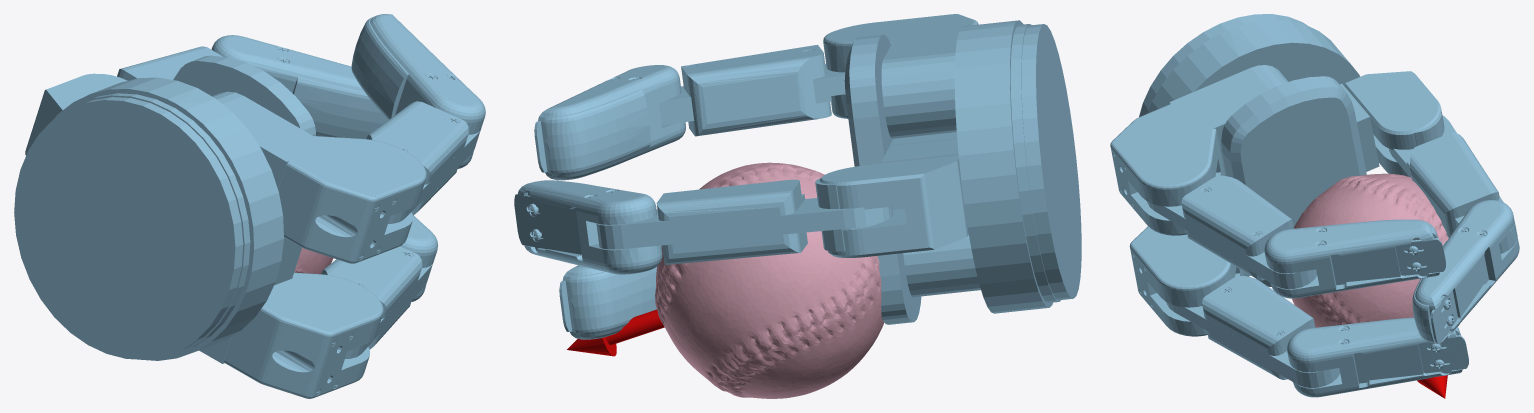
The picture shows the model from 3 angles, left to right: view 1: azimuth 30°, elevation 25°; view 2: azimuth 150°, elevation 25°; view 3: azimuth 270°, elevation 25°; orthographic projection. The views are drawn at different scales.
Visible parts, largest first — view 1: world, baseball.stl; view 2: world, baseball.stl; view 3: world, baseball.stl.
Part boxes in pixels (x1,y1,x2,y2): world: (14,14,485,398); baseball.stl: (294,247,333,274); world: (514,14,1081,356); baseball.stl: (655,162,884,398); world: (1110,14,1519,398); baseball.stl: (1292,173,1459,327).
Size of the model in its own units: 0.1696 by 0.1142 by 0.1563.
